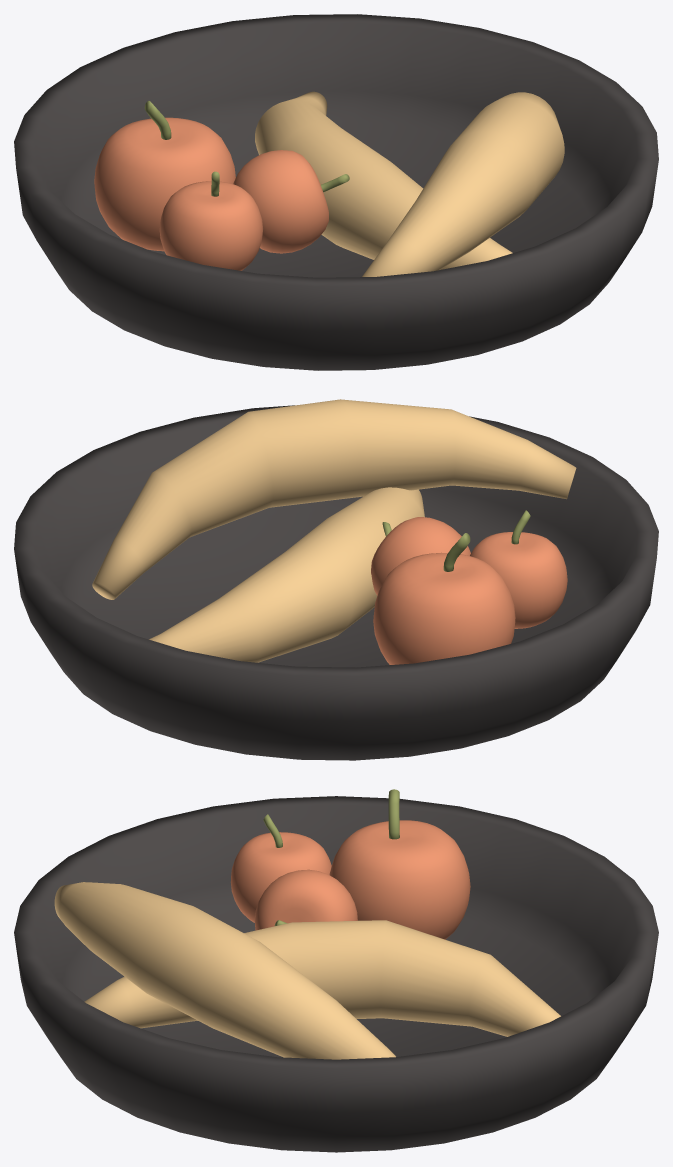
The model's file is Obstschale.fbx.
3 renders of one model, top to bottom at view 1: azimuth 30°, elevation 25°; view 2: azimuth 150°, elevation 25°; view 3: azimuth 270°, elevation 25°, orthographic.
Parts seen in each view (by area): view 1: Cylinder.037, Cylinder.042, Cylinder.041, Sphere.007, Sphere.008, Sphere.009; view 2: Cylinder.037, Cylinder.042, Cylinder.041, Sphere.007, Sphere.008, Sphere.009; view 3: Cylinder.037, Cylinder.042, Cylinder.041, Sphere.007, Sphere.008, Sphere.009, Cylinder.038.
Boxes of the visible parts, <box> form: Cylinder.037: <box>14,14,658,370</box>; Cylinder.042: <box>362,92,564,276</box>; Cylinder.041: <box>255,91,512,269</box>; Sphere.007: <box>94,117,235,251</box>; Sphere.008: <box>159,181,262,270</box>; Sphere.009: <box>233,150,328,253</box>; Cylinder.037: <box>14,405,658,760</box>; Cylinder.042: <box>92,399,576,599</box>; Cylinder.041: <box>149,487,424,662</box>; Sphere.007: <box>373,552,515,664</box>; Sphere.008: <box>470,532,567,628</box>; Sphere.009: <box>371,517,470,595</box>; Cylinder.037: <box>14,796,658,1152</box>; Cylinder.042: <box>54,882,395,1059</box>; Cylinder.041: <box>84,920,560,1036</box>; Sphere.007: <box>329,820,470,939</box>; Sphere.008: <box>230,832,331,922</box>; Sphere.009: <box>254,869,357,930</box>; Cylinder.038: <box>388,789,399,839</box>.
Size of the model in its own units: 32.74 by 9.38 by 32.74.
